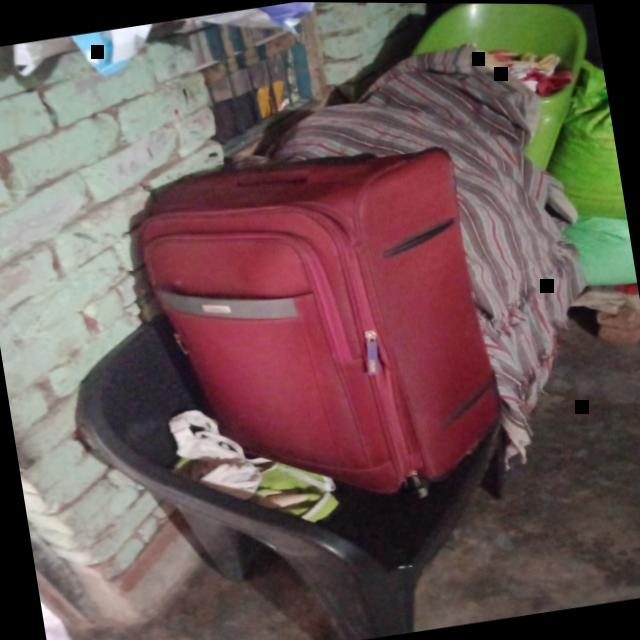luggage: (137, 148, 502, 497)
